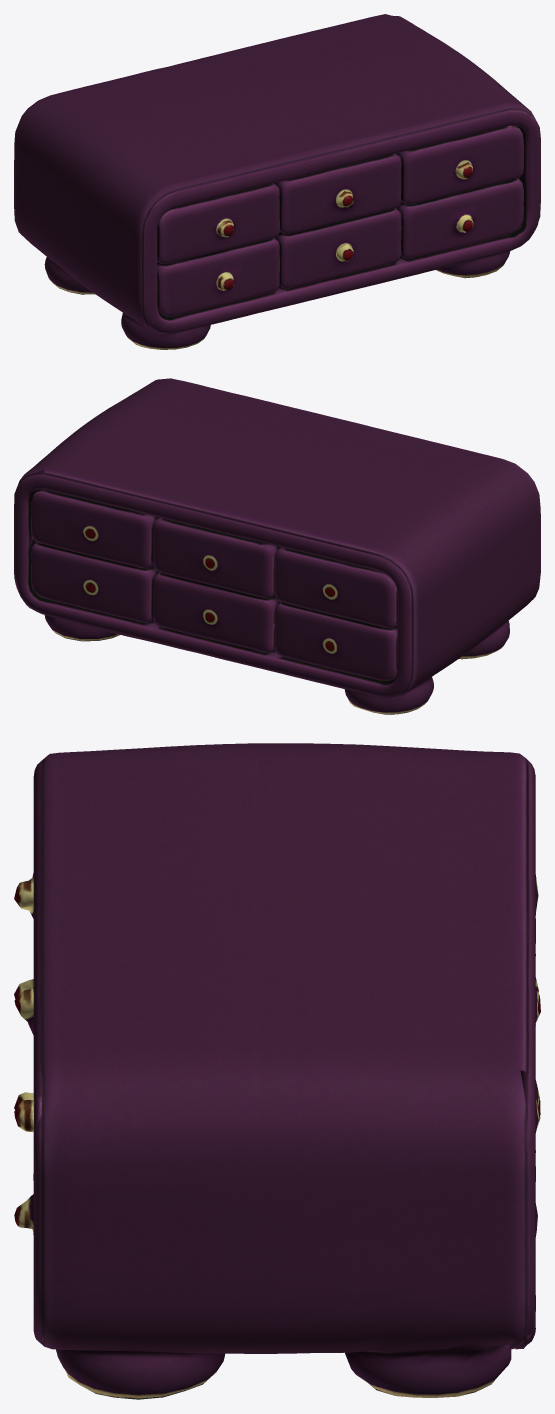
The model's file is tripo_convert_81d93eb2-b486-4d88-873c-ffc7e006a212.fbx.
3 views of the same model, one above another, from view 1: azimuth 30°, elevation 25°; view 2: azimuth 150°, elevation 25°; view 3: azimuth 270°, elevation 25° (orthographic). The views are drawn at different scales.
Visible parts, largest first — view 1: tripo_node_81d93eb2; view 2: tripo_node_81d93eb2; view 3: tripo_node_81d93eb2.
Boxes of the visible parts, left/top/right/bottom form: tripo_node_81d93eb2: left=14, top=14, right=540, bottom=349; tripo_node_81d93eb2: left=14, top=378, right=540, bottom=714; tripo_node_81d93eb2: left=14, top=743, right=540, bottom=1399.
Size of the model in its own units: 0.9796 by 0.399 by 0.5811.
1 material, 1 textured.
